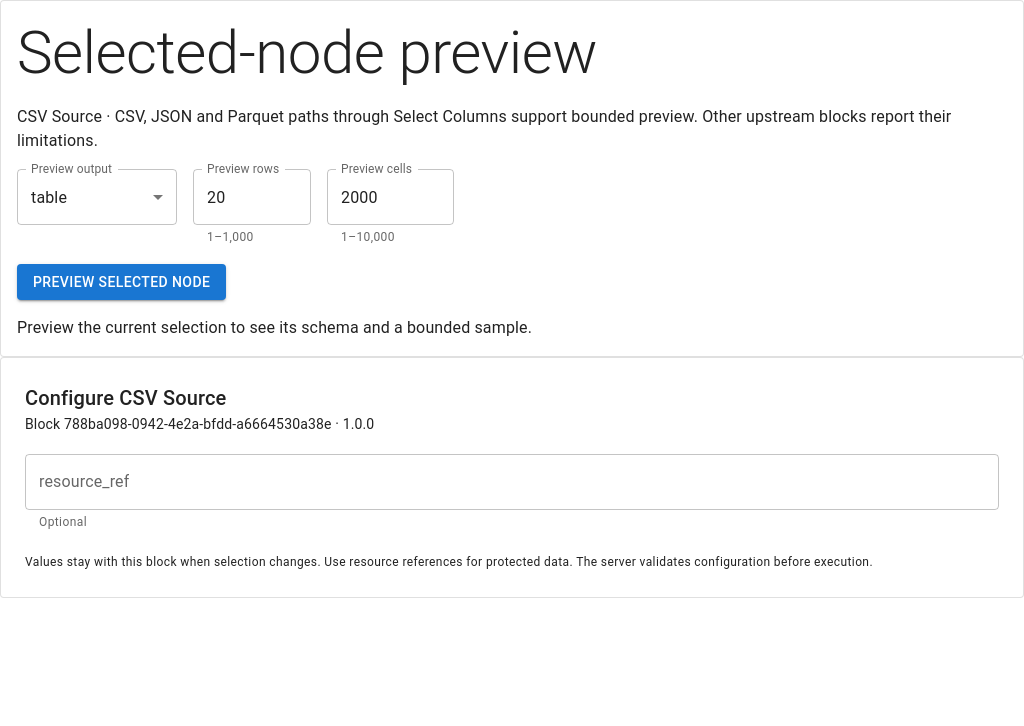
Test case: labels sample provenance without claiming whole-input validation
Click the button "Preview selected node" at (122, 282), box [17, 264, 226, 300]
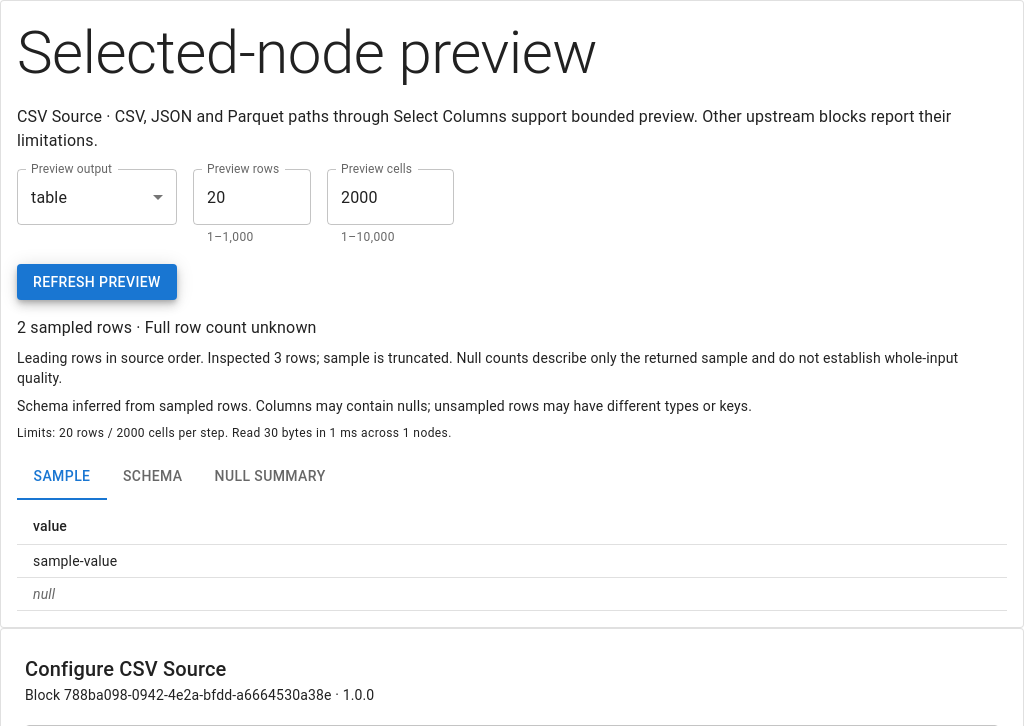
Result: the text "sample-value" is shown at [17, 545, 1007, 578]
Result: the text "Schema inferred from sampled rows" is shown at [17, 398, 752, 414]
Result: the message shows "Full row count unknown" at [145, 318, 317, 337]
